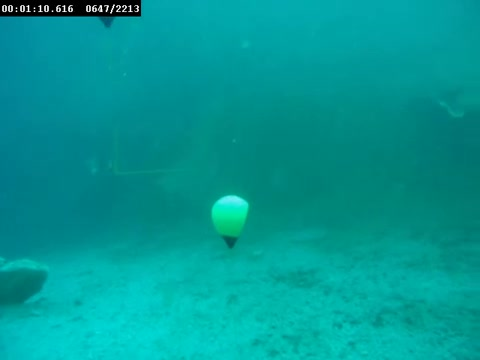buoy_green: (212, 194, 250, 250)
